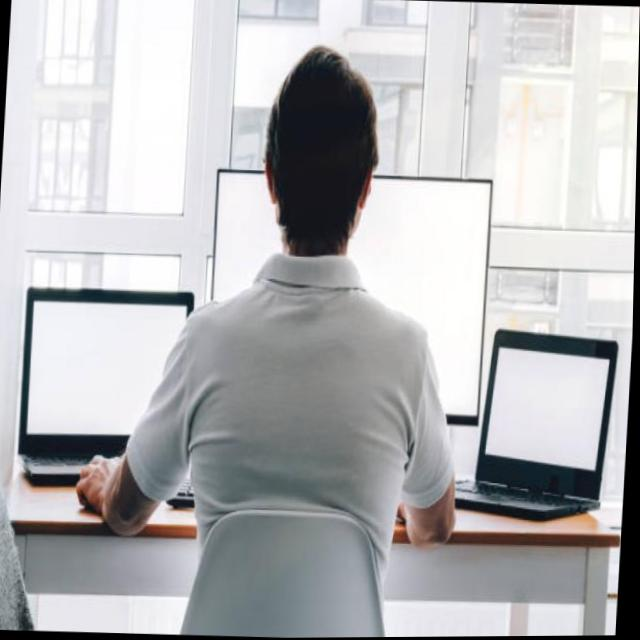no helmet: (247, 31, 405, 261)
